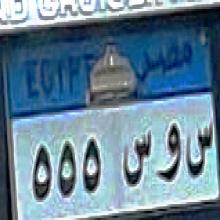5: (80, 132, 106, 197), (32, 136, 52, 206), (56, 136, 77, 200)
seen: (120, 129, 153, 194), (186, 119, 212, 187)
waw: (160, 120, 182, 186)
